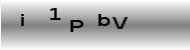P: (68, 19, 84, 32)
V: (111, 15, 128, 29)
b: (97, 13, 110, 26)
i: (47, 6, 61, 21), (19, 13, 26, 27)
